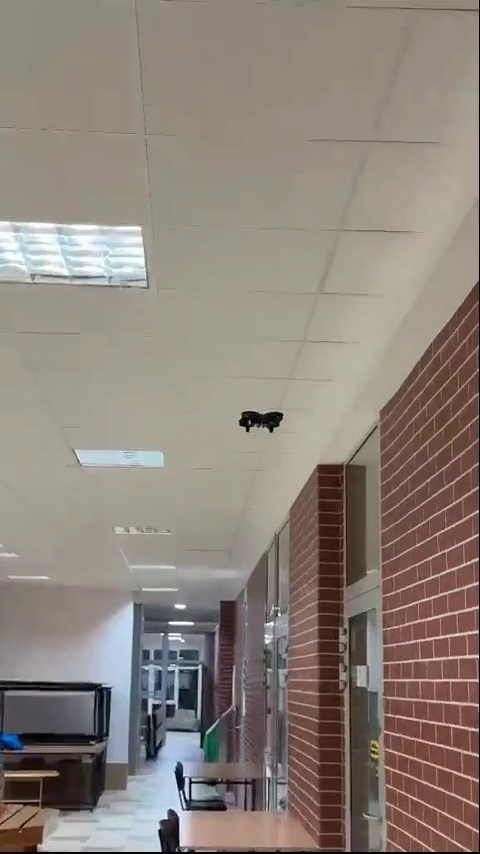drone: (238, 410, 284, 432)
